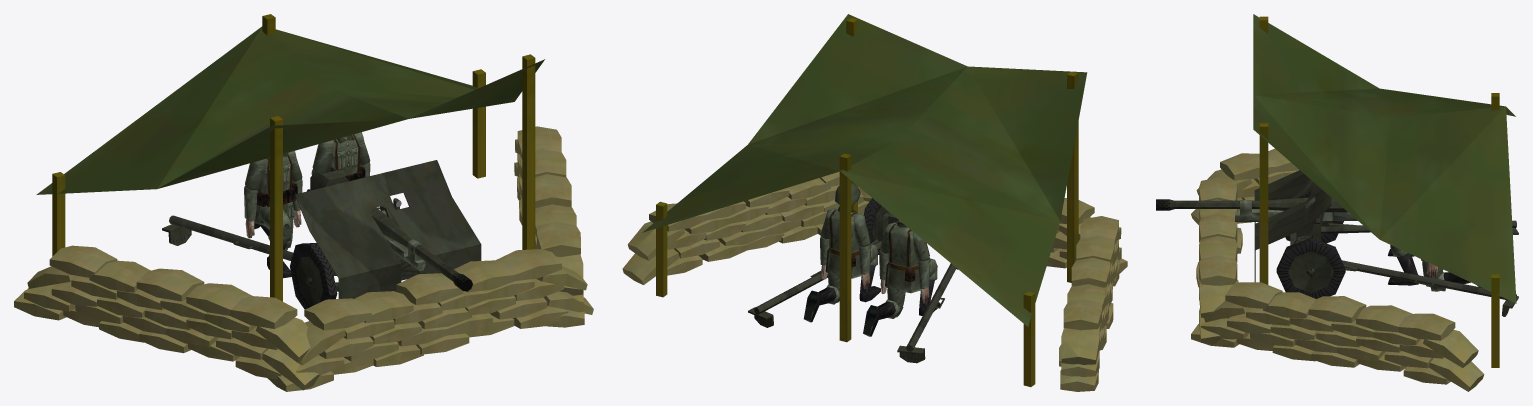
File: SWEPvKanM43_stationary.dae
3 views of the same model, side by side, from view 1: azimuth 30°, elevation 25°; view 2: azimuth 150°, elevation 25°; view 3: azimuth 270°, elevation 25° (orthographic). The views are drawn at different scales.
Visible parts, largest first — view 1: base, turret, wheels, barrel, trail2, torso1, torso2, sleeve, rloarm1, ruparm2; view 2: base, torso1, torso2, trail2, trail1, wheels, ruparm2, rloarm1, rloarm2; view 3: base, wheels, turret, barrel, trail1, sleeve, trail2, rleg2.
Part boxes in pixels (left/top/right/bottom): base: left=14, top=14, right=593, bottom=391; turret: left=295, top=160, right=481, bottom=298; wheels: left=290, top=243, right=337, bottom=309; barrel: left=307, top=166, right=472, bottom=291; trail2: left=162, top=215, right=293, bottom=260; torso1: left=254, top=152, right=297, bottom=225; torso2: left=327, top=134, right=365, bottom=180; sleeve: left=381, top=210, right=425, bottom=271; rloarm1: left=244, top=186, right=258, bottom=238; ruparm2: left=312, top=140, right=333, bottom=173; base: left=622, top=14, right=1127, bottom=391; torso1: left=885, top=221, right=921, bottom=293; torso2: left=825, top=206, right=862, bottom=278; trail2: left=897, top=263, right=958, bottom=363; trail1: left=748, top=239, right=881, bottom=327; wheels: left=863, top=198, right=889, bottom=254; ruparm2: left=853, top=213, right=870, bottom=246; rloarm1: left=918, top=257, right=930, bottom=303; rloarm2: left=859, top=243, right=871, bottom=289; base: left=1191, top=14, right=1516, bottom=391; wheels: left=1276, top=191, right=1345, bottom=298; turret: left=1254, top=170, right=1331, bottom=282; barrel: left=1156, top=197, right=1347, bottom=212; trail1: left=1342, top=260, right=1518, bottom=316; sleeve: left=1235, top=200, right=1357, bottom=221; trail2: left=1321, top=220, right=1518, bottom=234; rleg2: left=1390, top=245, right=1417, bottom=274.
Bounding box in the file's own units: 46.2 × 31.03 × 19.82.
